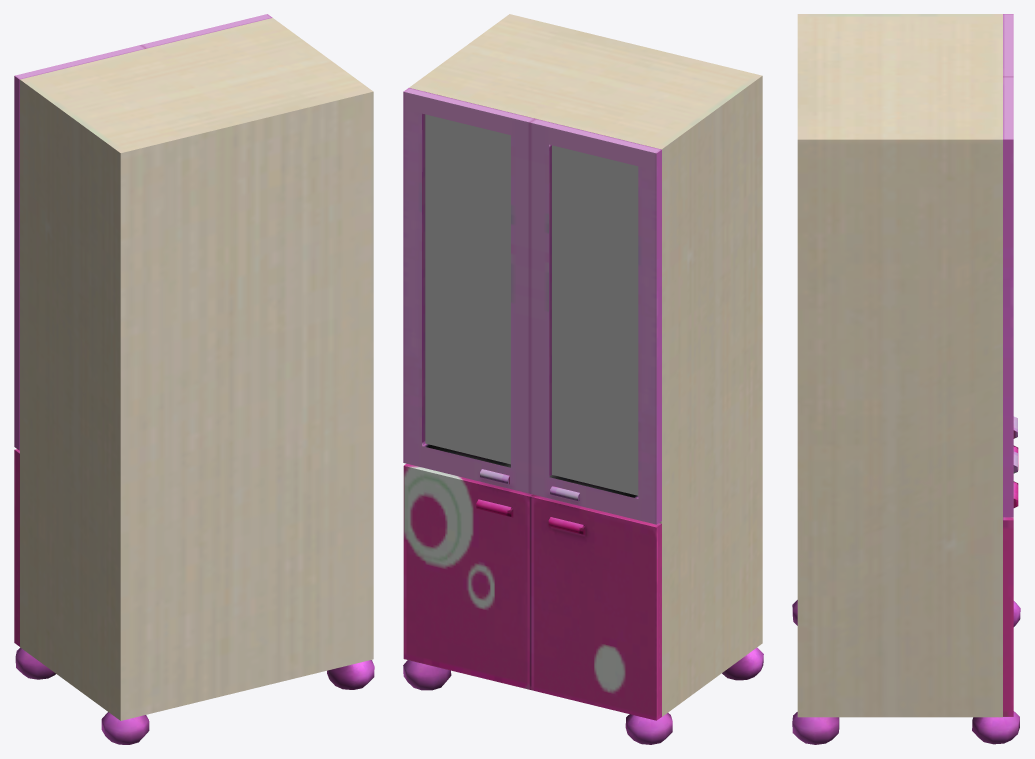
Rendered from furni_0200516_01.FBX.
3 views of the same model, side by side, from view 1: azimuth 30°, elevation 25°; view 2: azimuth 150°, elevation 25°; view 3: azimuth 270°, elevation 25° (orthographic).
Visible parts, largest first — view 1: furni_0200516_01; view 2: furni_0200516_01; view 3: furni_0200516_01.
Boxes of the visible parts, x1=… form: furni_0200516_01: x1=14, y1=14, x2=374, y2=744; furni_0200516_01: x1=403, y1=14, x2=763, y2=744; furni_0200516_01: x1=792, y1=14, x2=1020, y2=744.
Bounding box in the file's own units: 84.47 × 180 × 61.46.
